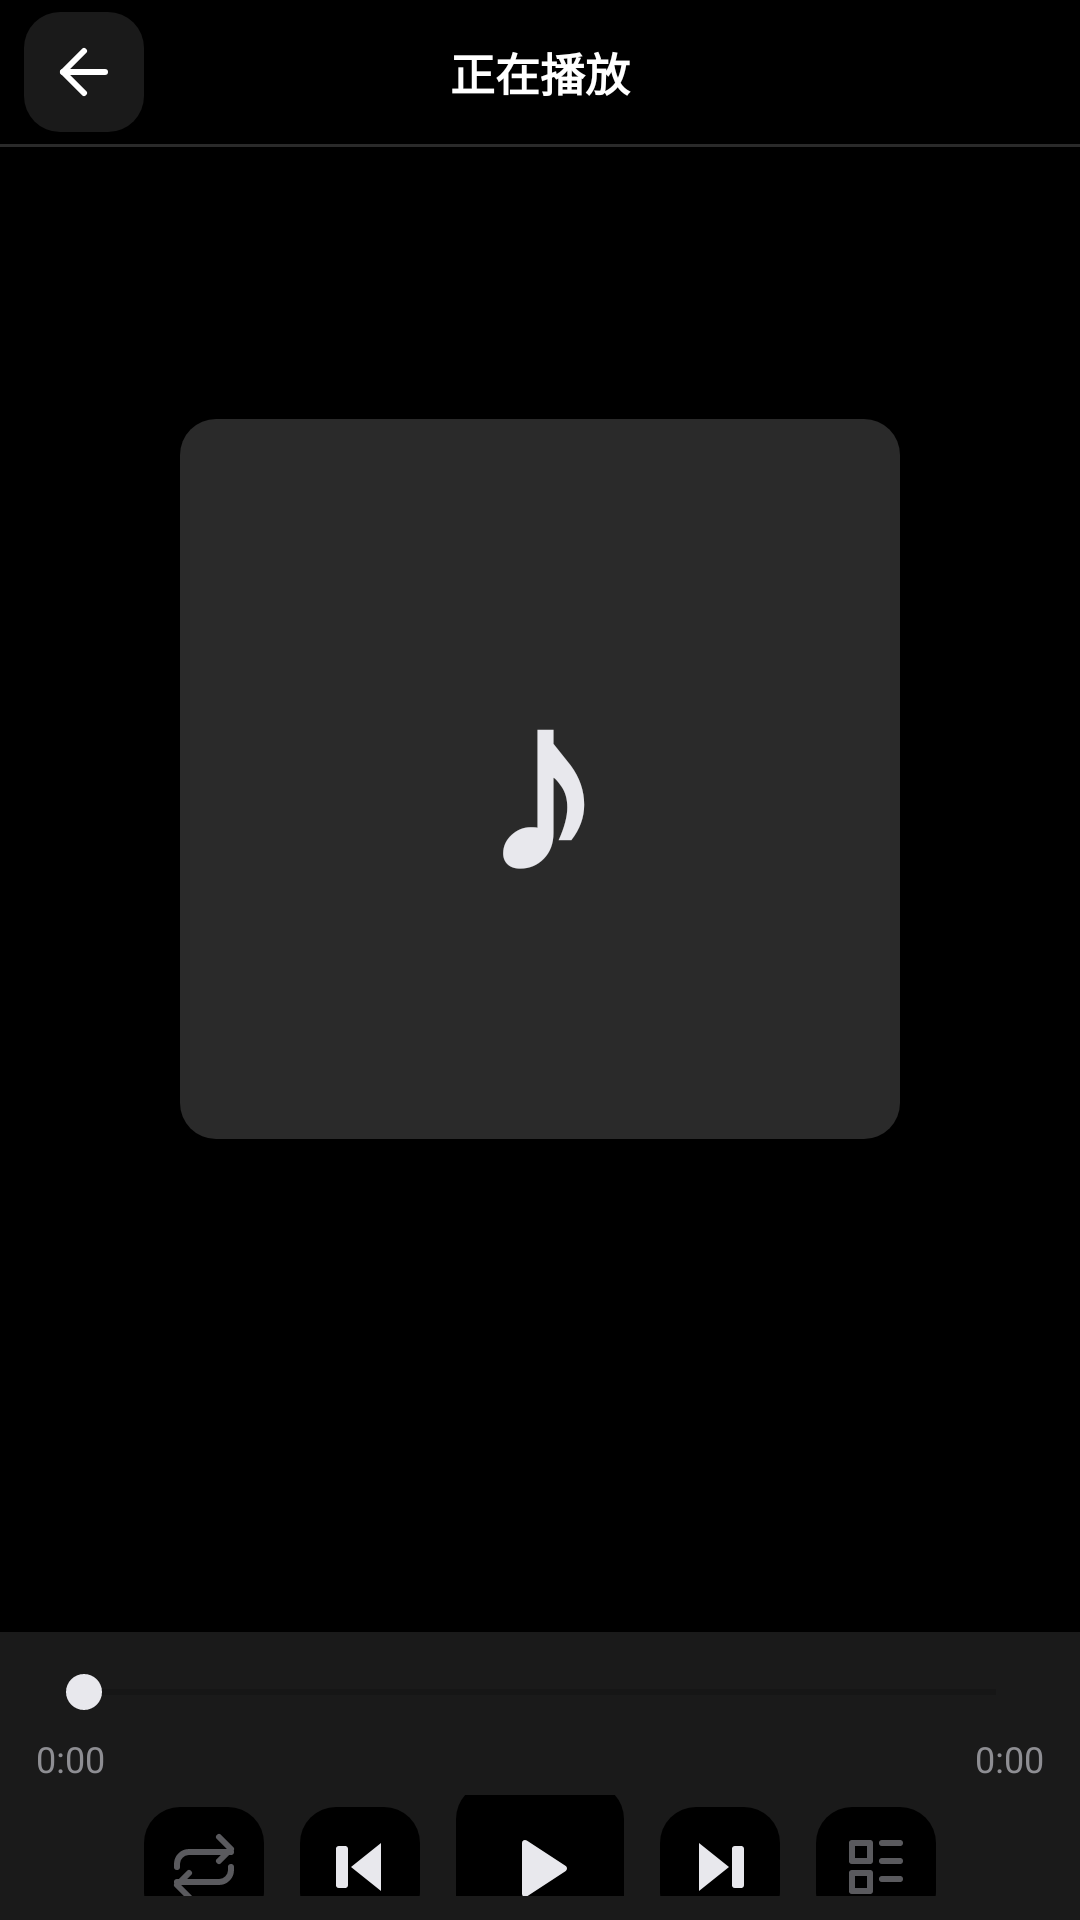

Named icons in this screenshot (1080 × 1920) and their centers, [x,y]:
← 返回: [84,72]
上一首: [360,1851]
下一首: [720,1851]
列表循环: [204,1851]
